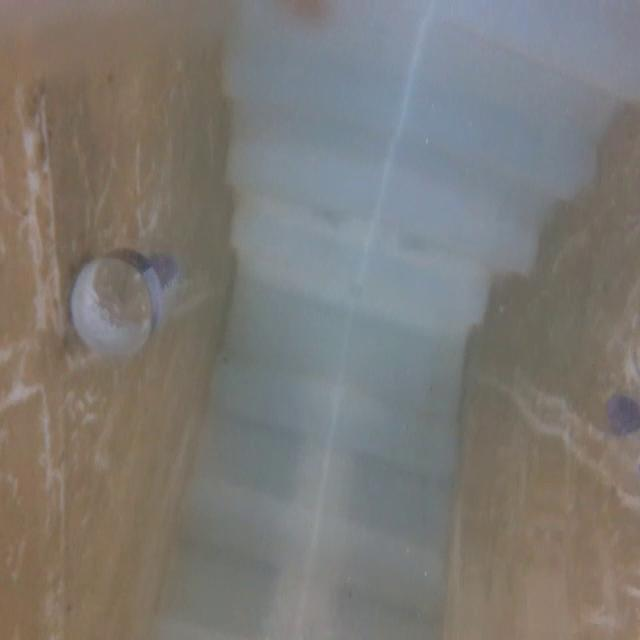plastic bags: (72, 234, 195, 367)
